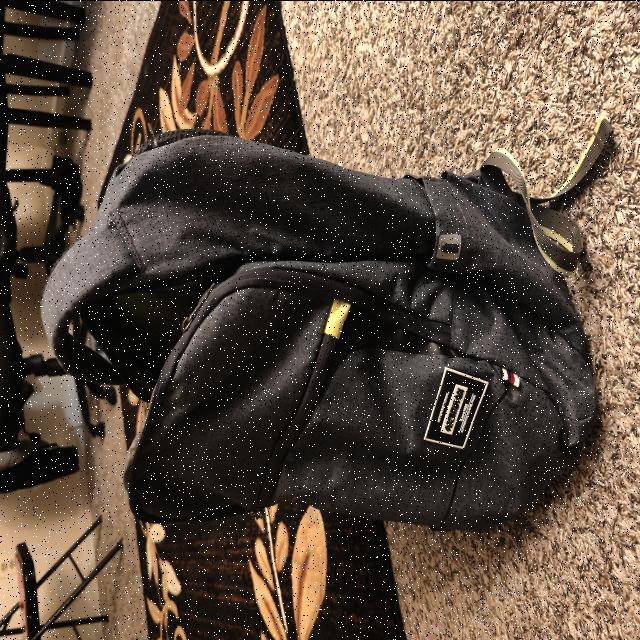bag: (45, 147, 594, 511)
